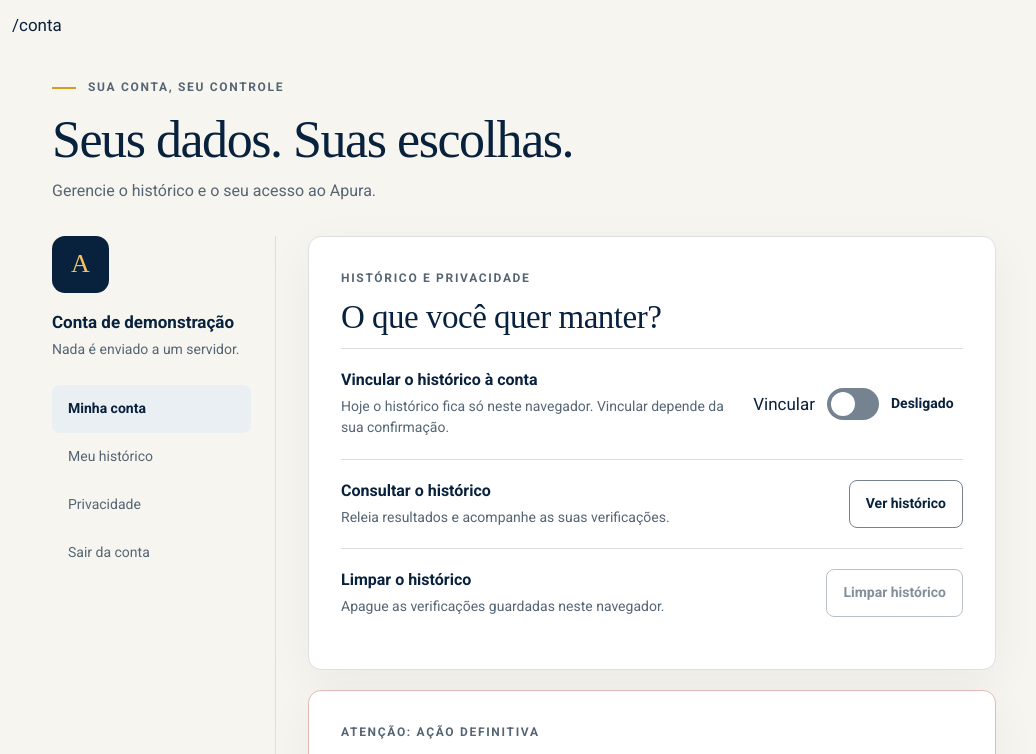
Test case: com sessão › falha ao sair: avisa e continua na conta
Click the button "Sair da conta" at coordinates (152, 553), box [52, 529, 251, 577]
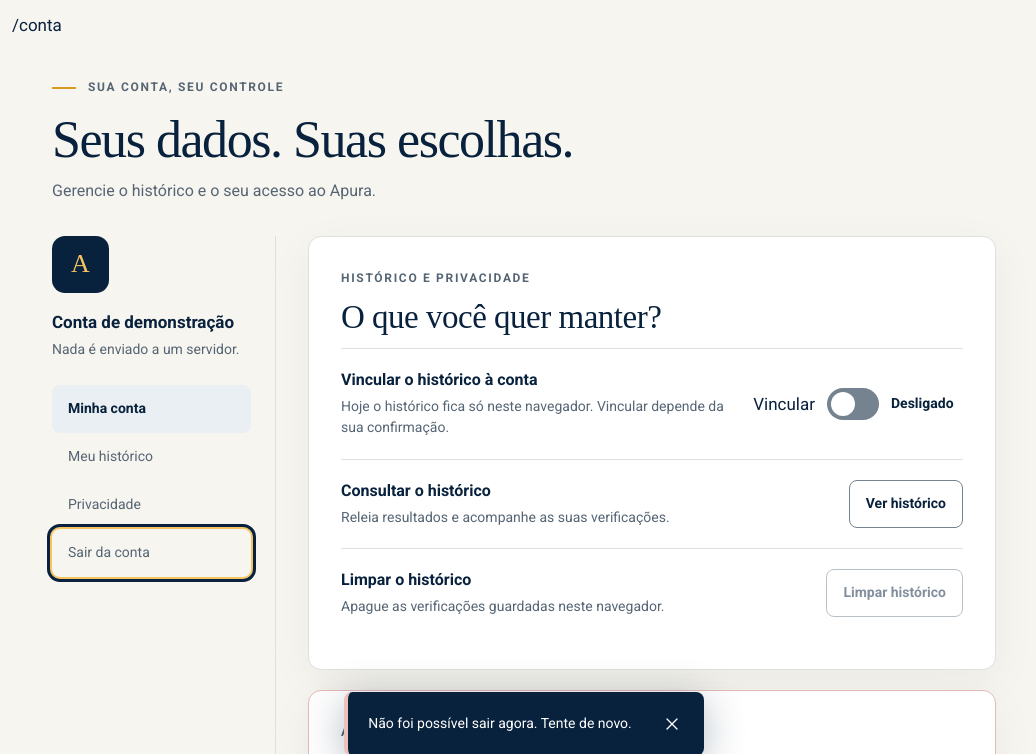
Check: the text with test id "onde" reads "/conta", box [12, 15, 62, 35]
Check: the text "Não foi possível sair agora. Tente de novo." is shown, box [368, 715, 632, 731]
